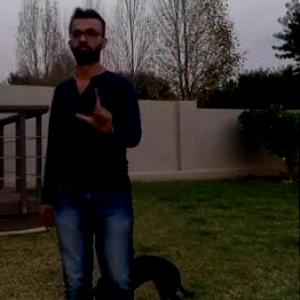land_hand: (73, 80, 118, 132)
